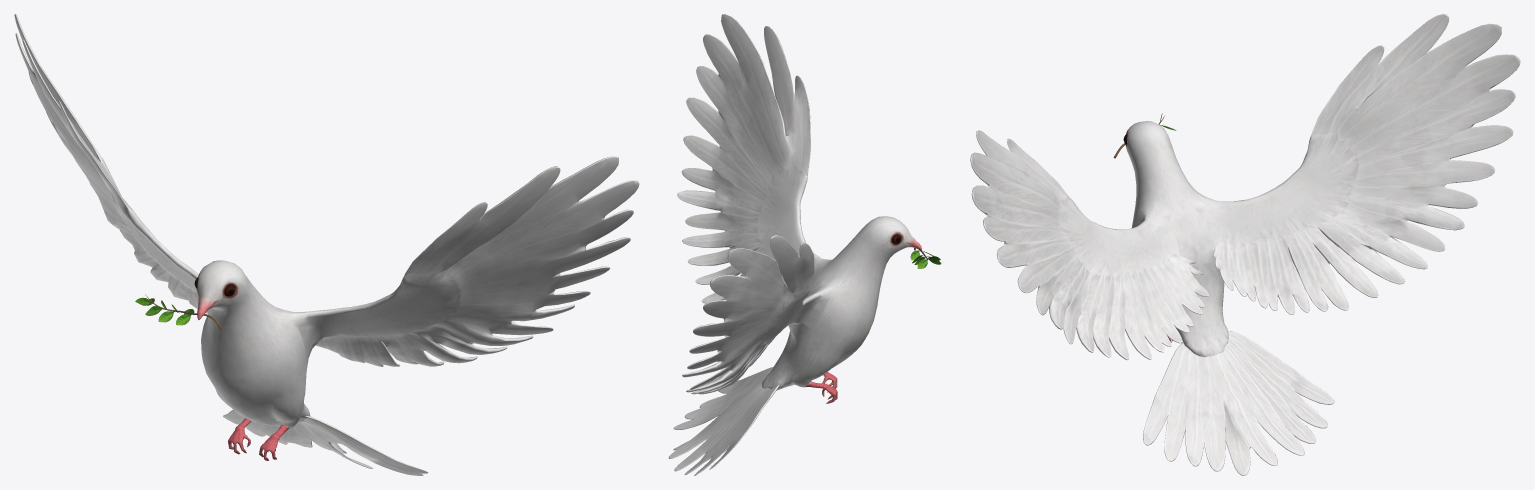
The model's file is pigen.obj.
The picture shows the model from 3 angles, left to right: view 1: azimuth 30°, elevation 25°; view 2: azimuth 150°, elevation 25°; view 3: azimuth 270°, elevation 25°; orthographic projection. The views are drawn at different scales.
Visible parts, largest first — view 1: node_id37; view 2: node_id37; view 3: node_id37.
Part boxes in pixels (bbox=[...]): node_id37: bbox=[14, 14, 639, 475]; node_id37: bbox=[668, 14, 941, 475]; node_id37: bbox=[970, 14, 1520, 475].
Size of the model in its own units: 0.3342 by 0.3184 by 0.4421.
1 material, 1 textured.
